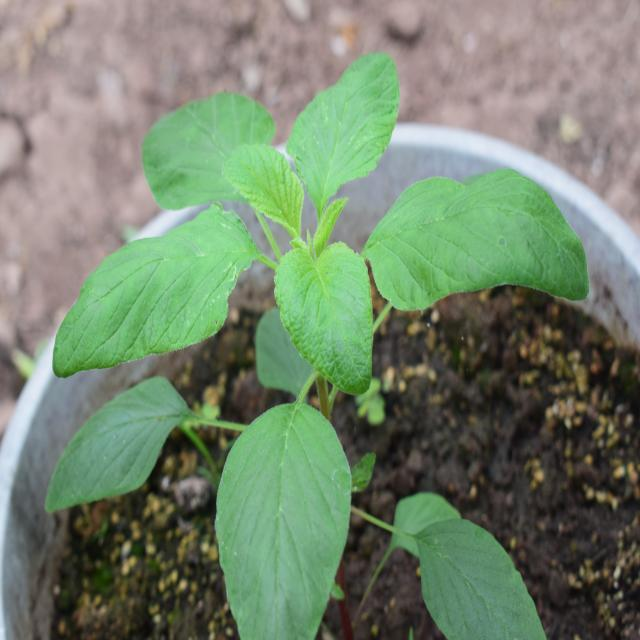pigweed: (68, 77, 576, 620)
